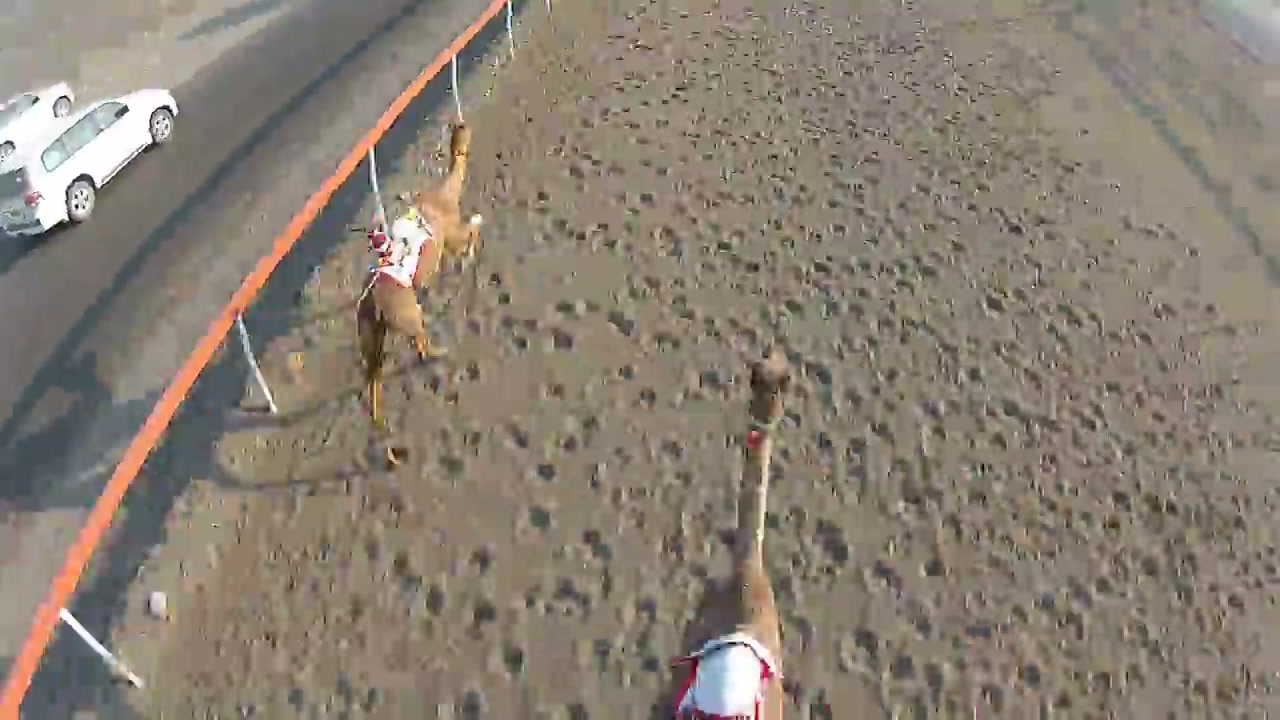animal_footprint: (791, 26, 1164, 702), (477, 18, 720, 718), (702, 53, 859, 626), (378, 226, 555, 704)
